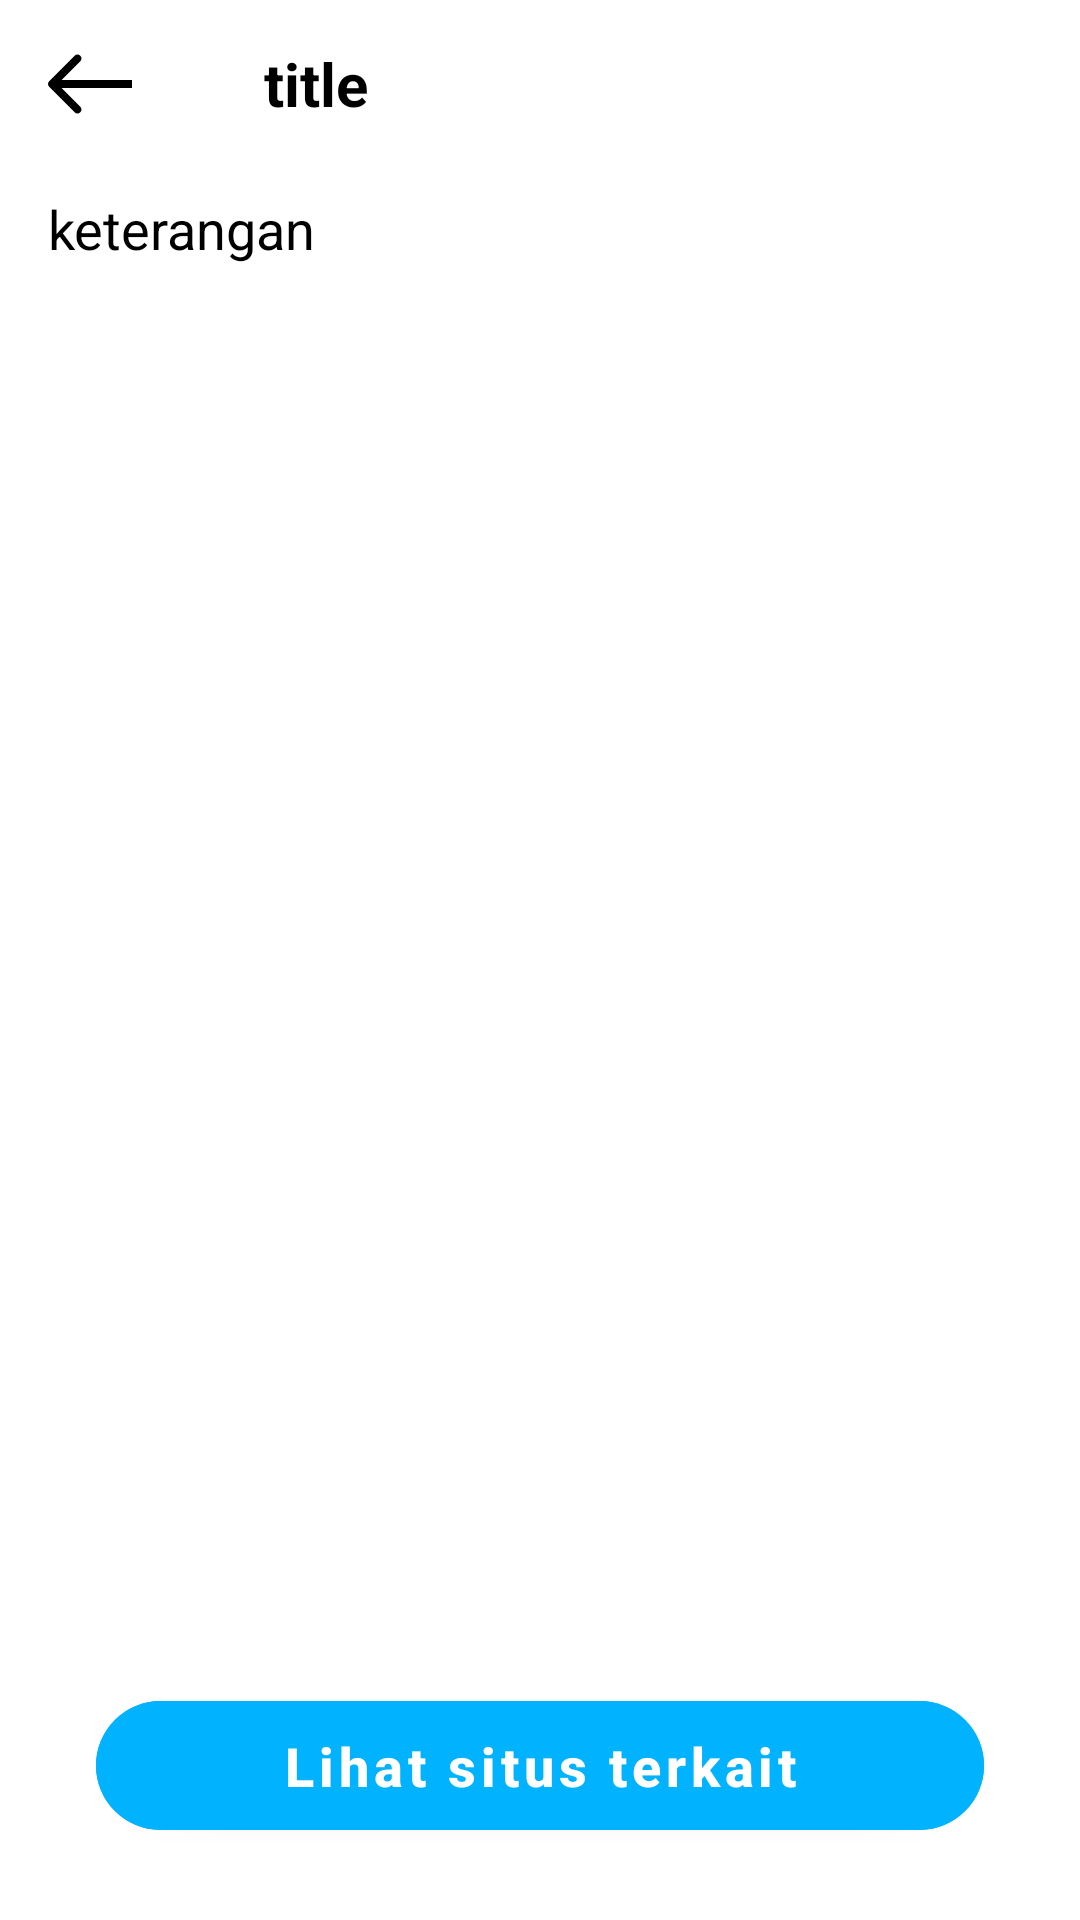

Icons on this 1080w x 1920h Android screen, each with its box as {"left": x1, "top": y1, "right": x2, "bottom": y2}:
arrow back: {"left": 48, "top": 54, "right": 132, "bottom": 114}
